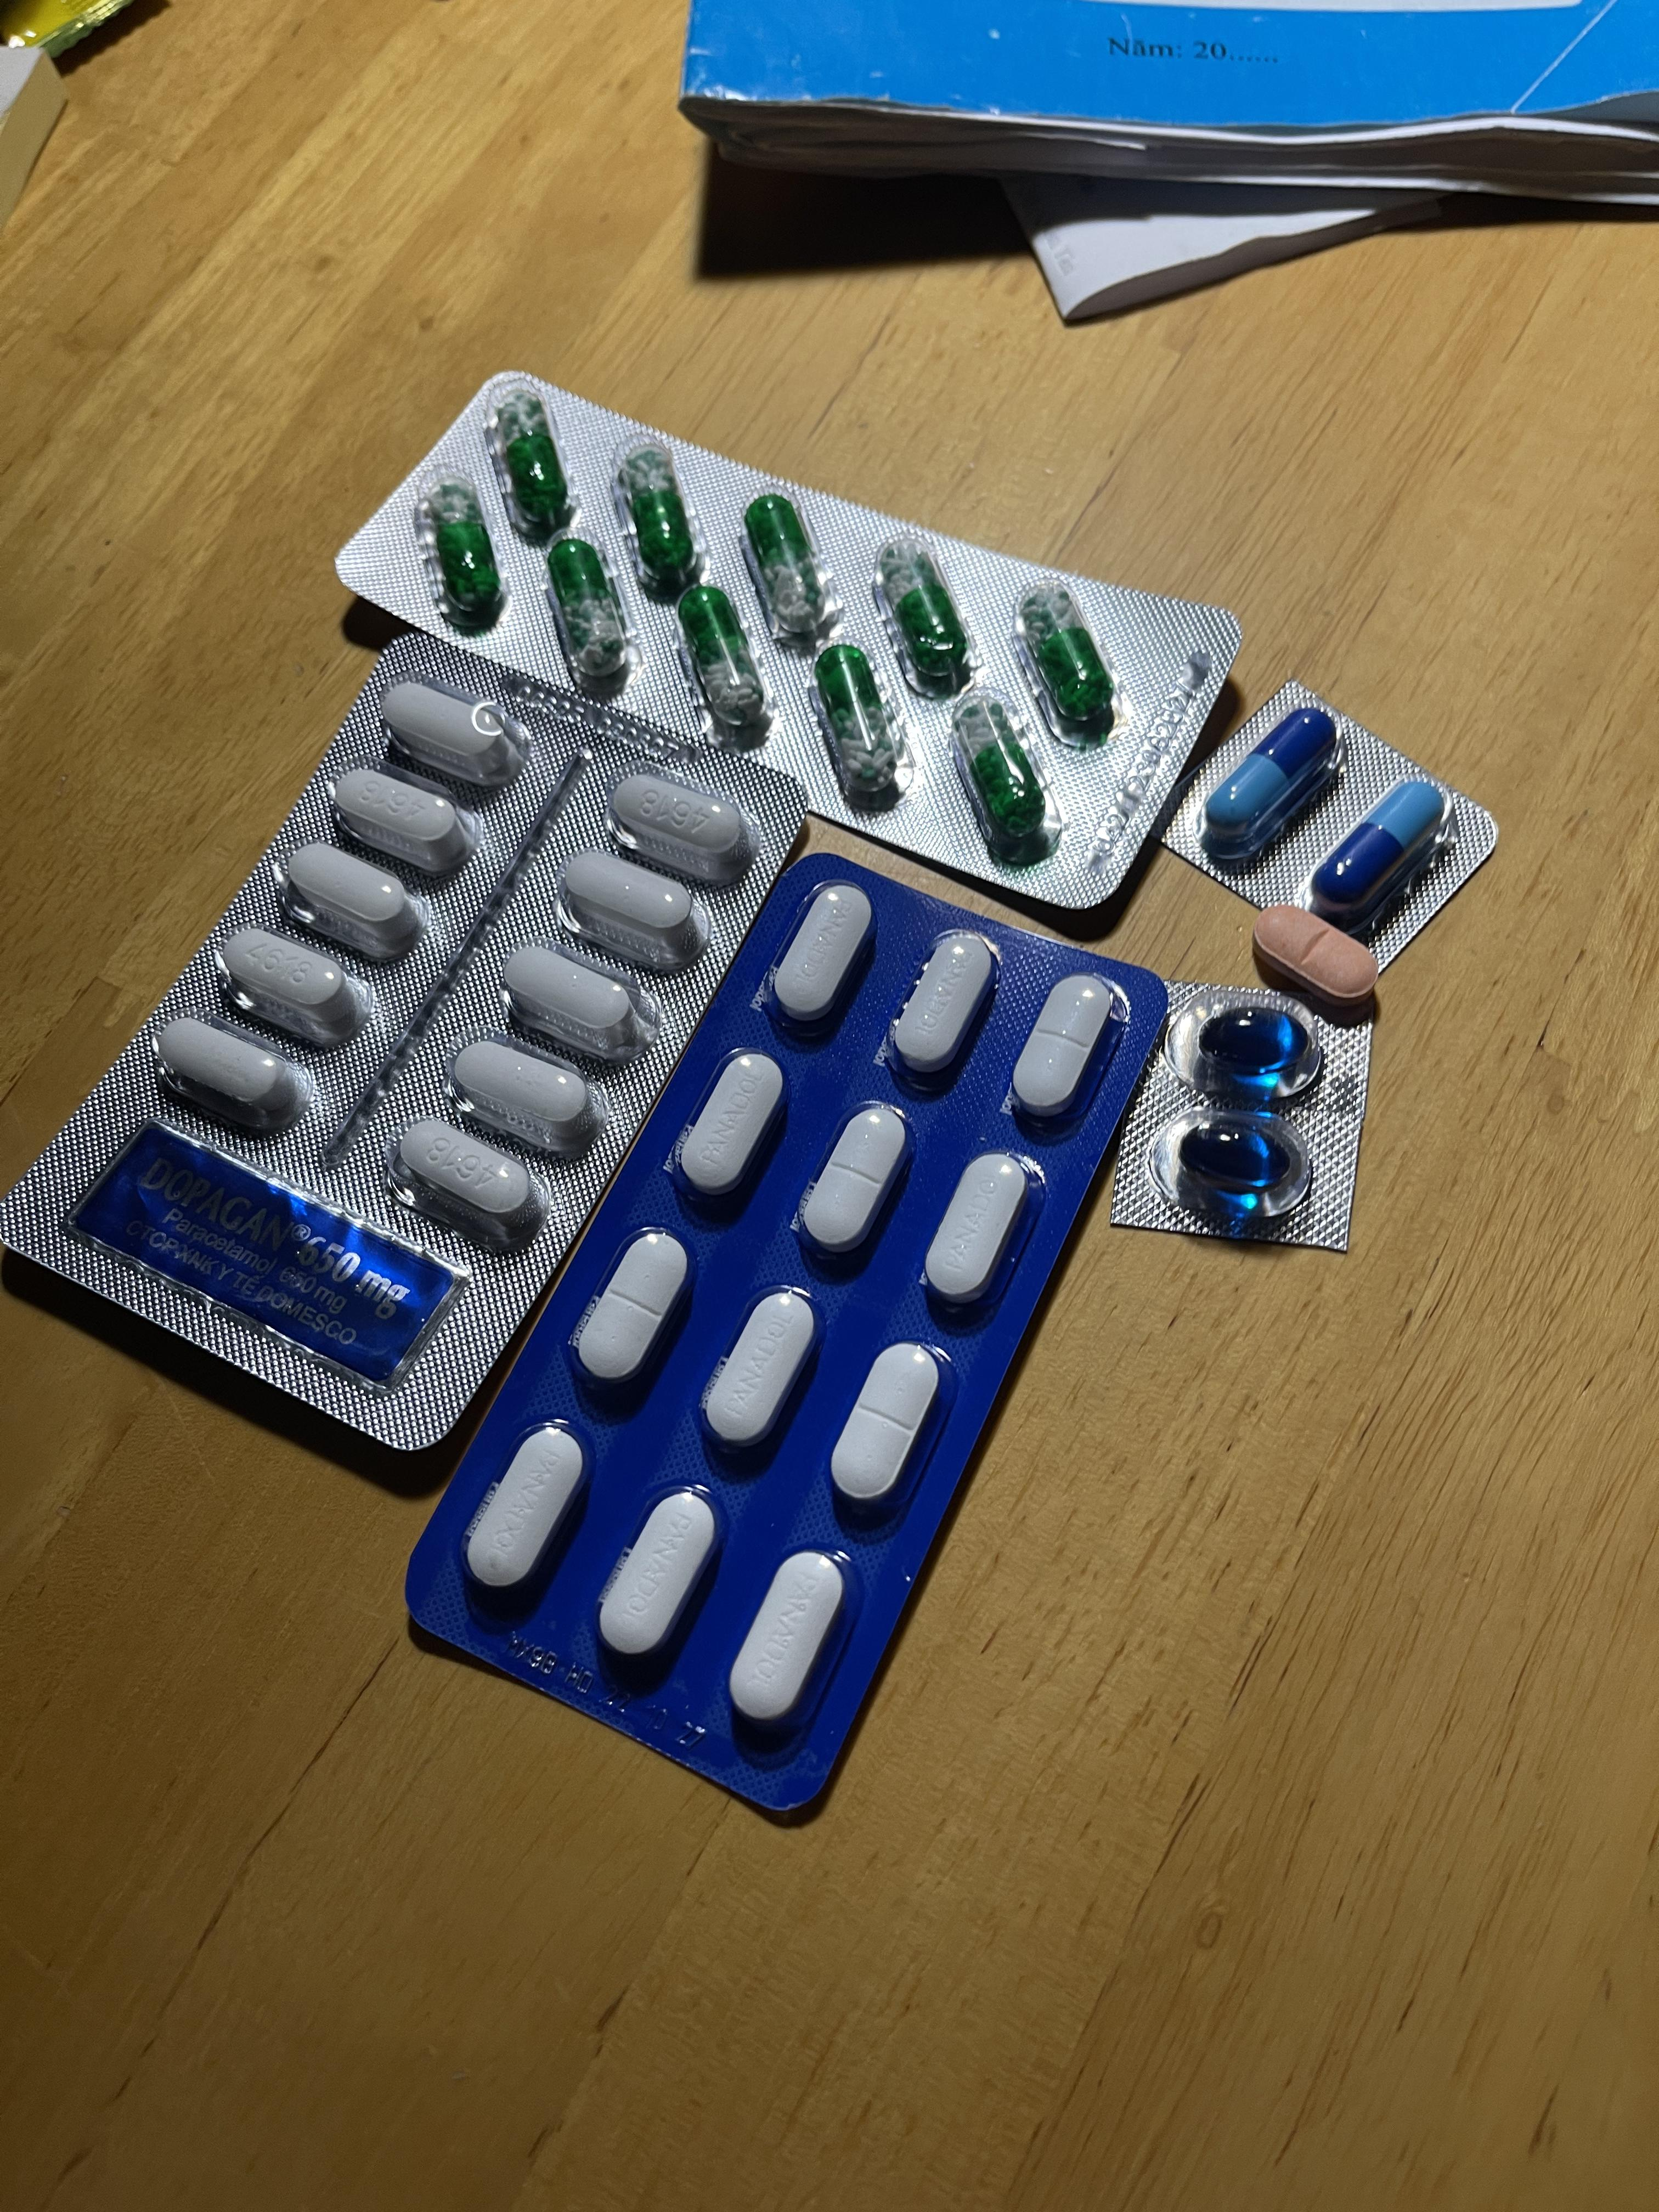Lincomyxin_500mg: (1178, 1120, 1286, 1197), (1197, 1003, 1298, 1076)
Loratadine_10mg: (1251, 902, 1378, 1005)
Paracetamol_350mg: (730, 1550, 854, 1733), (598, 1489, 721, 1669), (465, 1423, 591, 1599), (701, 1287, 821, 1453), (831, 1341, 946, 1514), (575, 1230, 694, 1393), (798, 1103, 913, 1256), (674, 1052, 788, 1205), (889, 928, 1002, 1082), (924, 1155, 1035, 1308), (1011, 970, 1119, 1118), (767, 881, 878, 1024)
Paracetamol_500mg: (214, 925, 375, 1049), (444, 1035, 606, 1157), (385, 1115, 538, 1242), (500, 941, 657, 1062), (155, 1014, 317, 1130), (326, 772, 479, 890), (559, 848, 709, 967), (380, 678, 530, 791), (605, 773, 753, 887), (284, 841, 427, 949)
Paracetamol_650mg: (951, 695, 1065, 867), (877, 535, 981, 697), (1016, 582, 1117, 733), (484, 380, 577, 543), (416, 477, 509, 631), (613, 442, 702, 597), (742, 493, 833, 644), (676, 585, 767, 730), (545, 535, 631, 685), (816, 646, 899, 794)
pill: (1206, 709, 1337, 848), (1316, 780, 1446, 907)
